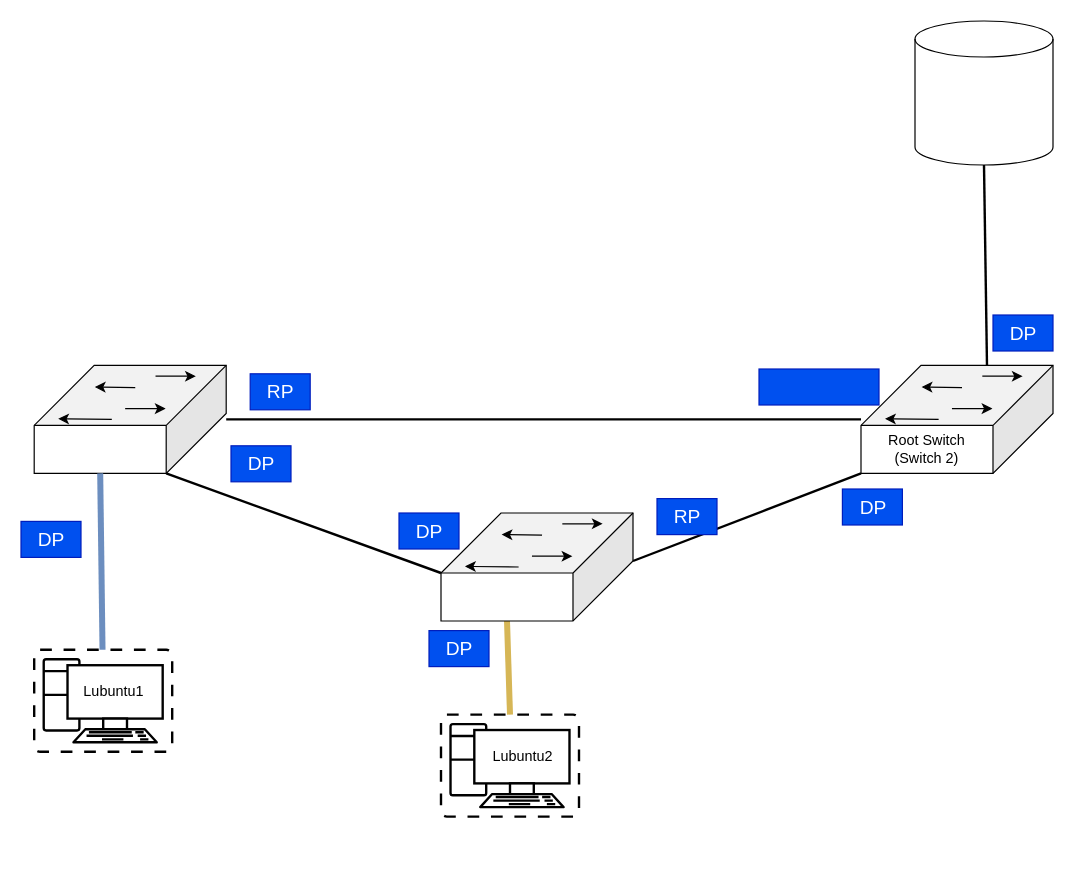
The diagram is 1074 pixels wide and 871 high, and some of its shapes have lost their labels. The shapes that lost their labels are listed below. From the top down, each one's box as (x1, y1, x2, y2) in pixels, then its label:
(914, 20, 1053, 165): VYOS 1
(758, 368, 879, 405): DISABLED
(33, 364, 226, 473): Switch 1
(440, 512, 633, 621): Switch 3
